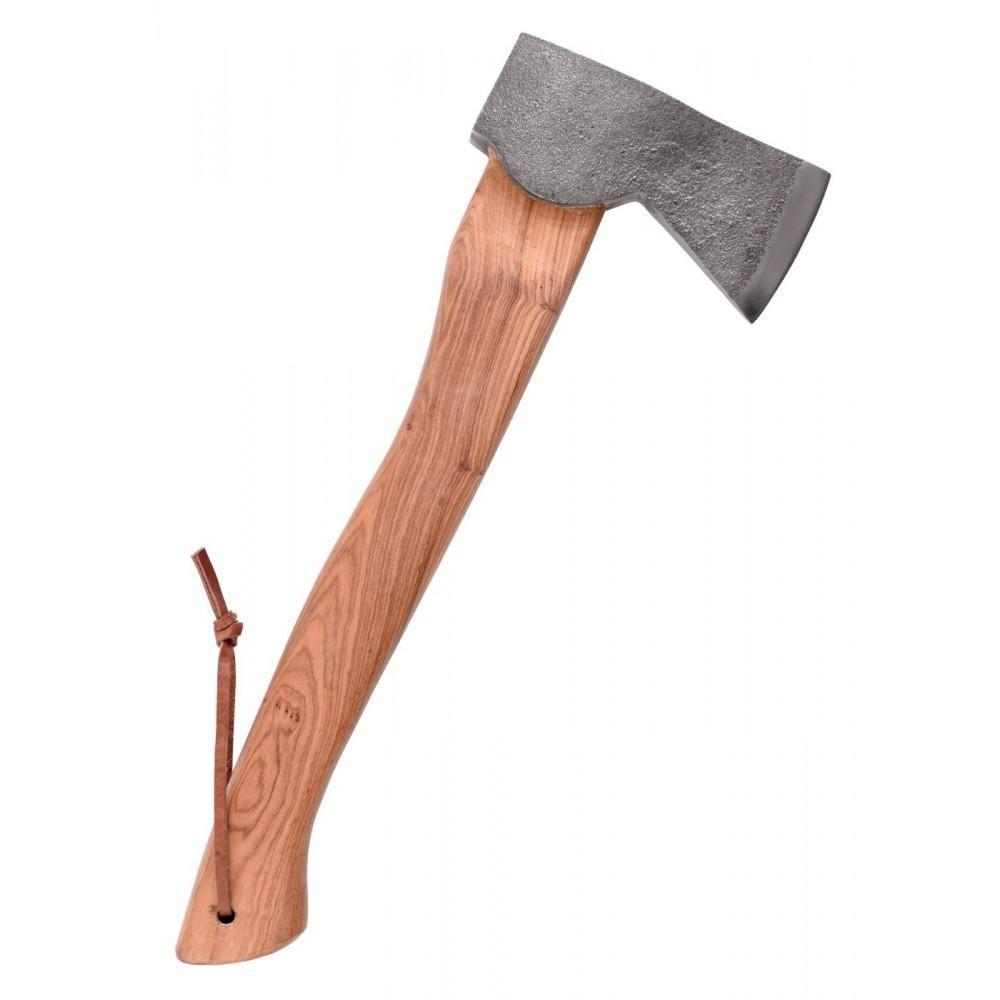machado: (177, 35, 827, 963)
